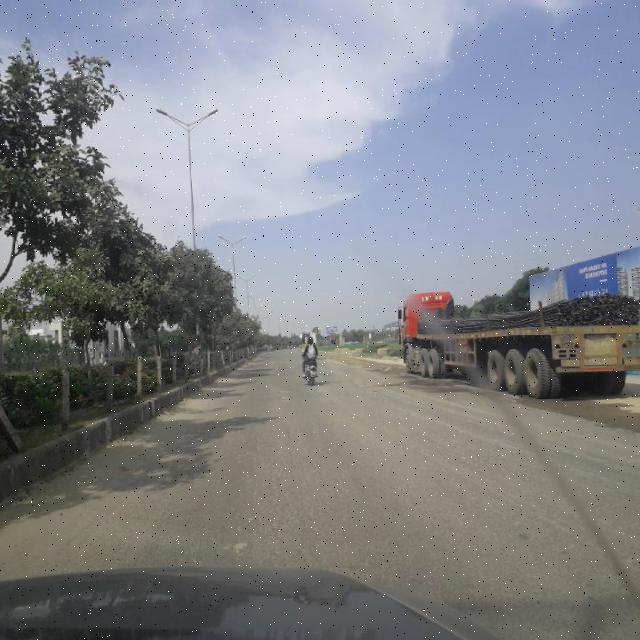D00: (365, 413, 615, 563)
D20: (157, 409, 411, 566)
D40: (269, 383, 298, 408)
